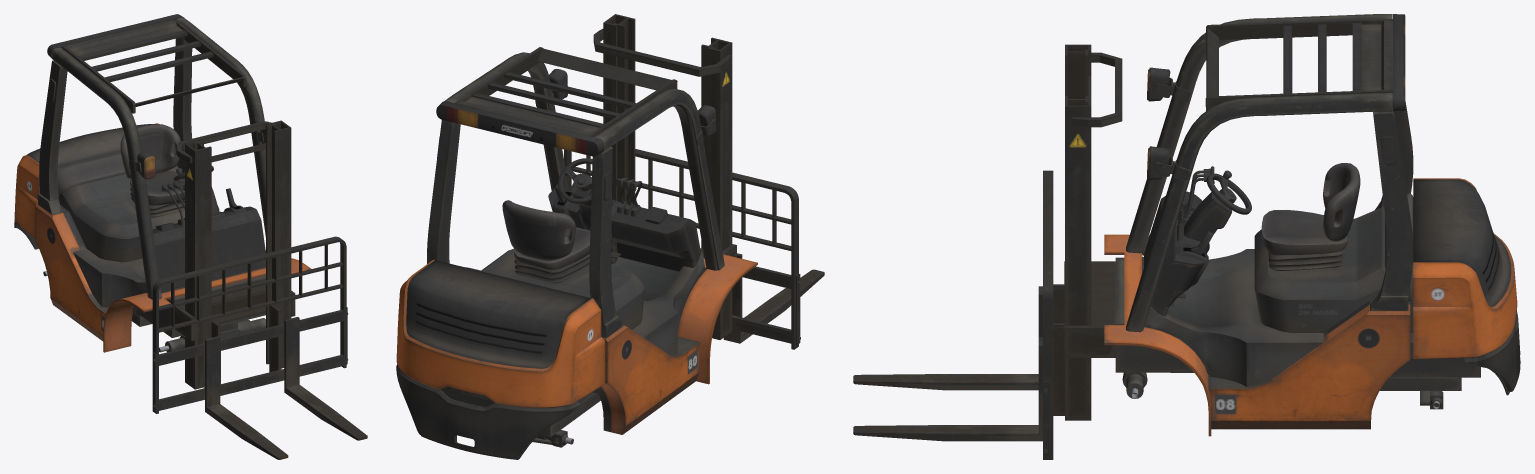
File: SM_Forklift_Wheelless.fbx
The picture shows the model from 3 angles, left to right: view 1: azimuth 30°, elevation 25°; view 2: azimuth 150°, elevation 25°; view 3: azimuth 270°, elevation 25°; orthographic projection. The views are drawn at different scales.
Visible parts, largest first — view 1: SM_Forklift_Wheelless_LOD0; view 2: SM_Forklift_Wheelless_LOD0; view 3: SM_Forklift_Wheelless_LOD0.
Boxes of the visible parts, <box> form: SM_Forklift_Wheelless_LOD0: <box>14,14,367,459</box>; SM_Forklift_Wheelless_LOD0: <box>396,14,824,459</box>; SM_Forklift_Wheelless_LOD0: <box>853,14,1520,459</box>.
Bounding box in the file's own units: 192 × 435 × 257.
